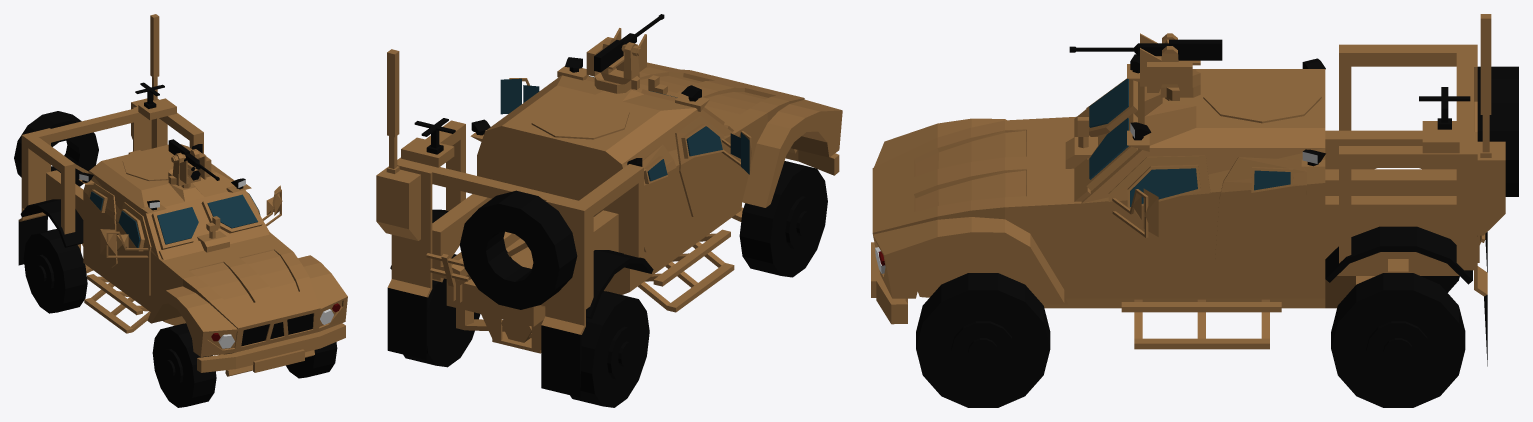
Rendered from Oshkosh L-ATV_NATO-Desert.fbx.
3 views of the same model, side by side, from view 1: azimuth 30°, elevation 25°; view 2: azimuth 150°, elevation 25°; view 3: azimuth 270°, elevation 25° (orthographic). The views are drawn at different scales.
Parts seen in each view (by area): view 1: L-ATV_Body, L-ATV_Wheel-Back_R, L-ATV_Wheel-Forward_R, L-ATV_Windows, L-ATV_Spare-Wheel, L-ATV_Fenders, L-ATV_Same-Color-Parts, L-ATV_Wheel-Forward_L, L-ATV_Turret, L-ATV_Lights, L-ATV_Turret_Gun; view 2: L-ATV_Body, L-ATV_Spare-Wheel, L-ATV_Wheel-Forward_R, L-ATV_Fenders, L-ATV_Wheel-Back_R, L-ATV_Wheel-Back_L, L-ATV_Turret, L-ATV_Body_Mirrors, L-ATV_Same-Color-Parts, L-ATV_Windows, L-ATV_Turret_Gun; view 3: L-ATV_Body, L-ATV_Wheel-Forward_L, L-ATV_Wheel-Back_L, L-ATV_Windows, L-ATV_Fenders, L-ATV_Spare-Wheel, L-ATV_Turret, L-ATV_Turret_Gun, L-ATV_Same-Color-Parts.
Part boxes in pixels (x1,y1,x2,y2): L-ATV_Body: (19, 14, 347, 376); L-ATV_Wheel-Back_R: (23, 229, 87, 313); L-ATV_Wheel-Forward_R: (152, 323, 216, 407); L-ATV_Windows: (90, 191, 260, 247); L-ATV_Spare-Wheel: (14, 111, 98, 186); L-ATV_Fenders: (18, 199, 83, 265); L-ATV_Same-Color-Parts: (80, 82, 313, 346); L-ATV_Wheel-Forward_L: (286, 342, 337, 378); L-ATV_Turret: (168, 149, 211, 188); L-ATV_Lights: (79, 174, 333, 348); L-ATV_Turret_Gun: (168, 139, 219, 180); L-ATV_Body: (376, 49, 842, 353); L-ATV_Spare-Wheel: (459, 190, 577, 309); L-ATV_Wheel-Forward_R: (739, 161, 827, 277); L-ATV_Fenders: (387, 209, 653, 397); L-ATV_Wheel-Back_R: (570, 291, 649, 407); L-ATV_Wheel-Back_L: (403, 254, 480, 367); L-ATV_Turret: (586, 28, 646, 93); L-ATV_Body_Mirrors: (500, 78, 749, 174); L-ATV_Same-Color-Parts: (414, 57, 701, 166); L-ATV_Windows: (589, 76, 722, 181); L-ATV_Turret_Gun: (594, 14, 664, 72); L-ATV_Body: (871, 14, 1505, 349); L-ATV_Wheel-Forward_L: (916, 273, 1050, 407); L-ATV_Wheel-Back_L: (1331, 273, 1465, 407); L-ATV_Windows: (1089, 78, 1290, 206); L-ATV_Fenders: (1325, 226, 1487, 366); L-ATV_Spare-Wheel: (1477, 66, 1518, 196); L-ATV_Turret: (1140, 33, 1200, 100); L-ATV_Turret_Gun: (1069, 39, 1222, 60); L-ATV_Same-Color-Parts: (1130, 54, 1470, 166).
Size of the model in its own units: 312 by 398 by 602.
